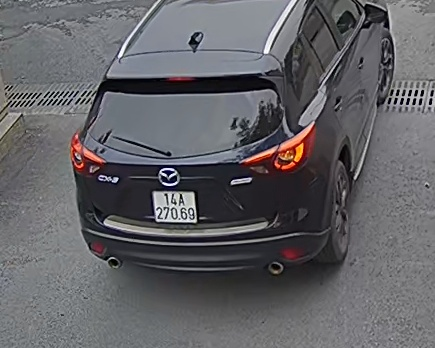vehicle plate: (147, 186, 200, 223)
